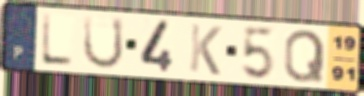4: (137, 17, 179, 76)
5: (240, 24, 278, 81)
K: (187, 22, 224, 78)
L: (39, 11, 75, 68)
Q: (282, 28, 328, 84)
U: (81, 14, 126, 71)
